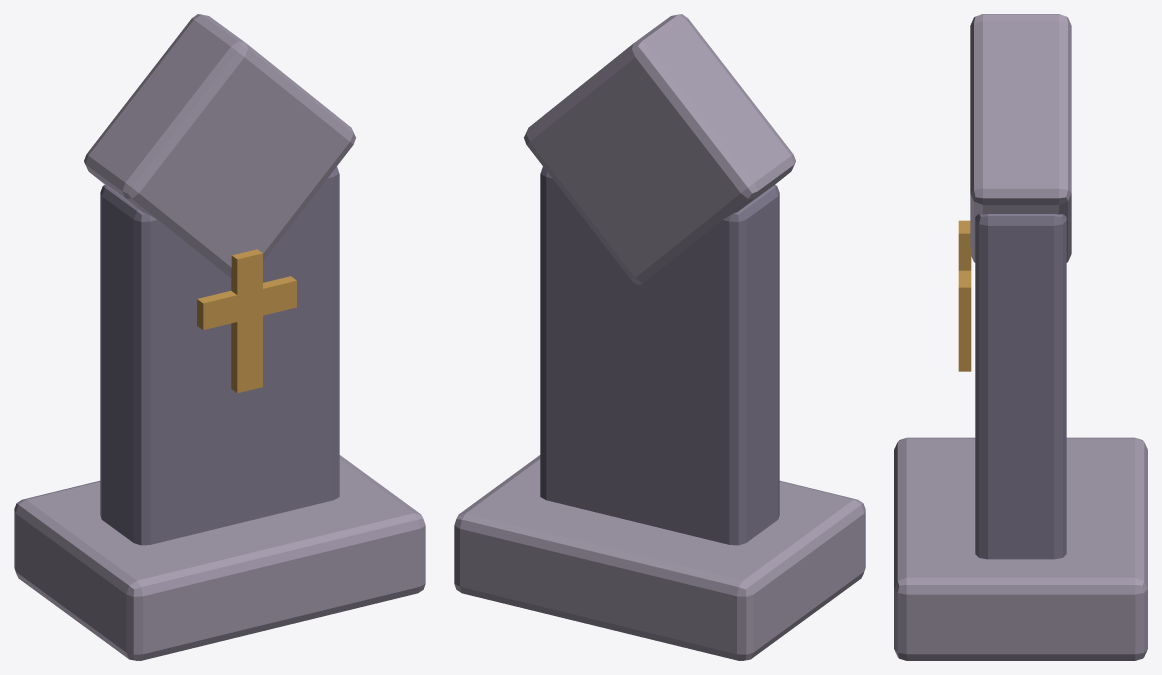
File: tombstone.glb
The picture shows the model from 3 angles, left to right: view 1: azimuth 30°, elevation 25°; view 2: azimuth 150°, elevation 25°; view 3: azimuth 270°, elevation 25°; orthographic projection. The views are drawn at different scales.
Parts seen in each view (by area): view 1: grave marker, grave base, gabled top, cross upright, cross arms; view 2: grave marker, grave base, gabled top; view 3: grave base, grave marker, gabled top, cross upright, cross arms.
Boxes of the visible parts, box(x1,y1,x2,y2) form: grave marker: box(100, 166, 339, 545); grave base: box(14, 455, 425, 660); gabled top: box(84, 14, 355, 278); cross upright: box(231, 249, 262, 393); cross arms: box(197, 276, 296, 330); grave marker: box(540, 166, 779, 545); grave base: box(454, 455, 865, 660); gabled top: box(524, 14, 795, 284); grave base: box(894, 437, 1147, 660); grave marker: box(975, 214, 1066, 559); gabled top: box(970, 14, 1071, 262); cross upright: box(958, 220, 971, 371); cross arms: box(958, 270, 971, 315).
Bounding box in the file's own units: 0.7 × 1.25 × 0.5.
